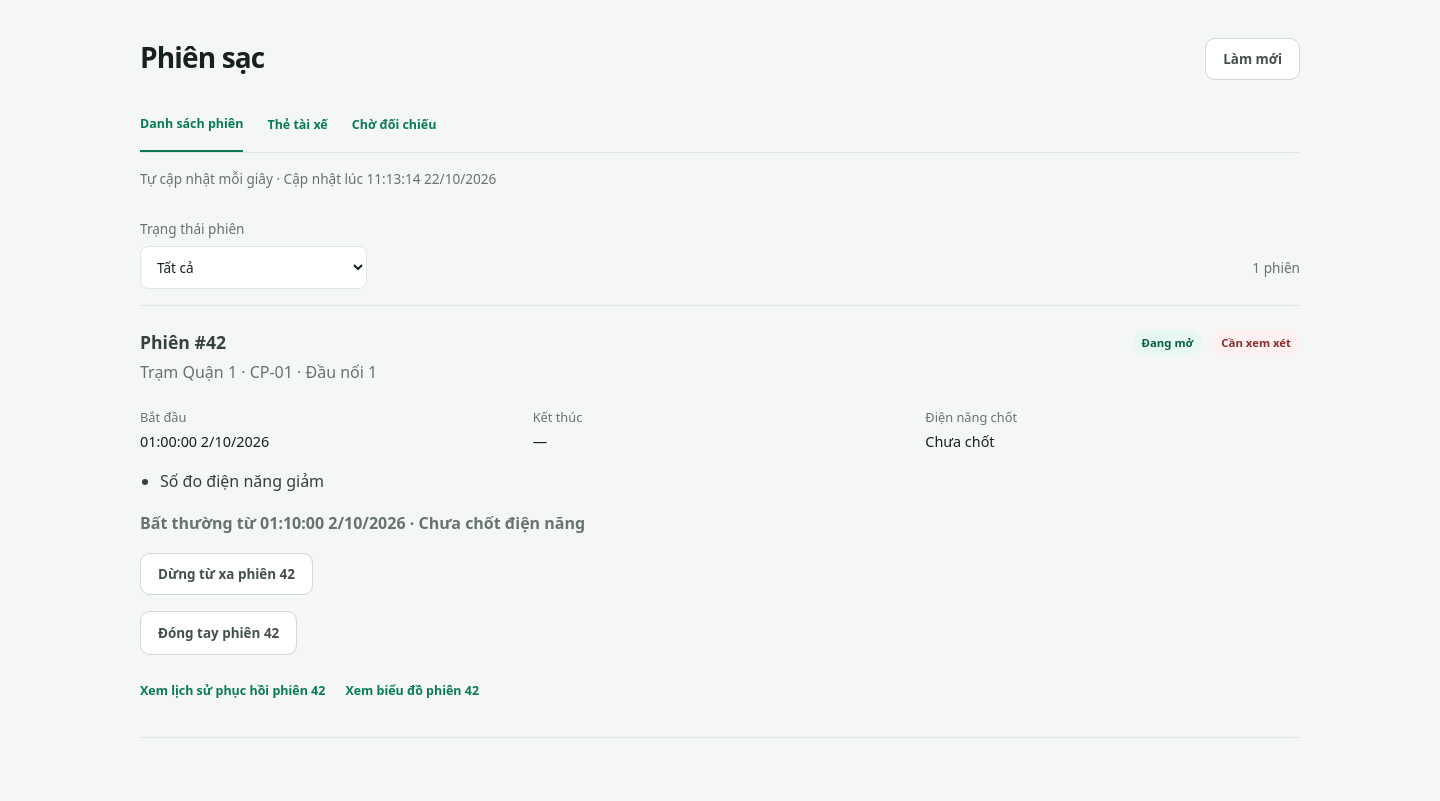
ChargingSessionsPage › filters abnormal sessions, closes using the real API and displays history
The image size is (1440, 801).
Expected: the heading "Phiên #42" is shown, [140, 330, 226, 354]
Step 1. Select "Bất thường — chưa kết thúc" in the dropdown labelled "Trạng thái phiên" → (254, 268), box [140, 246, 367, 289]
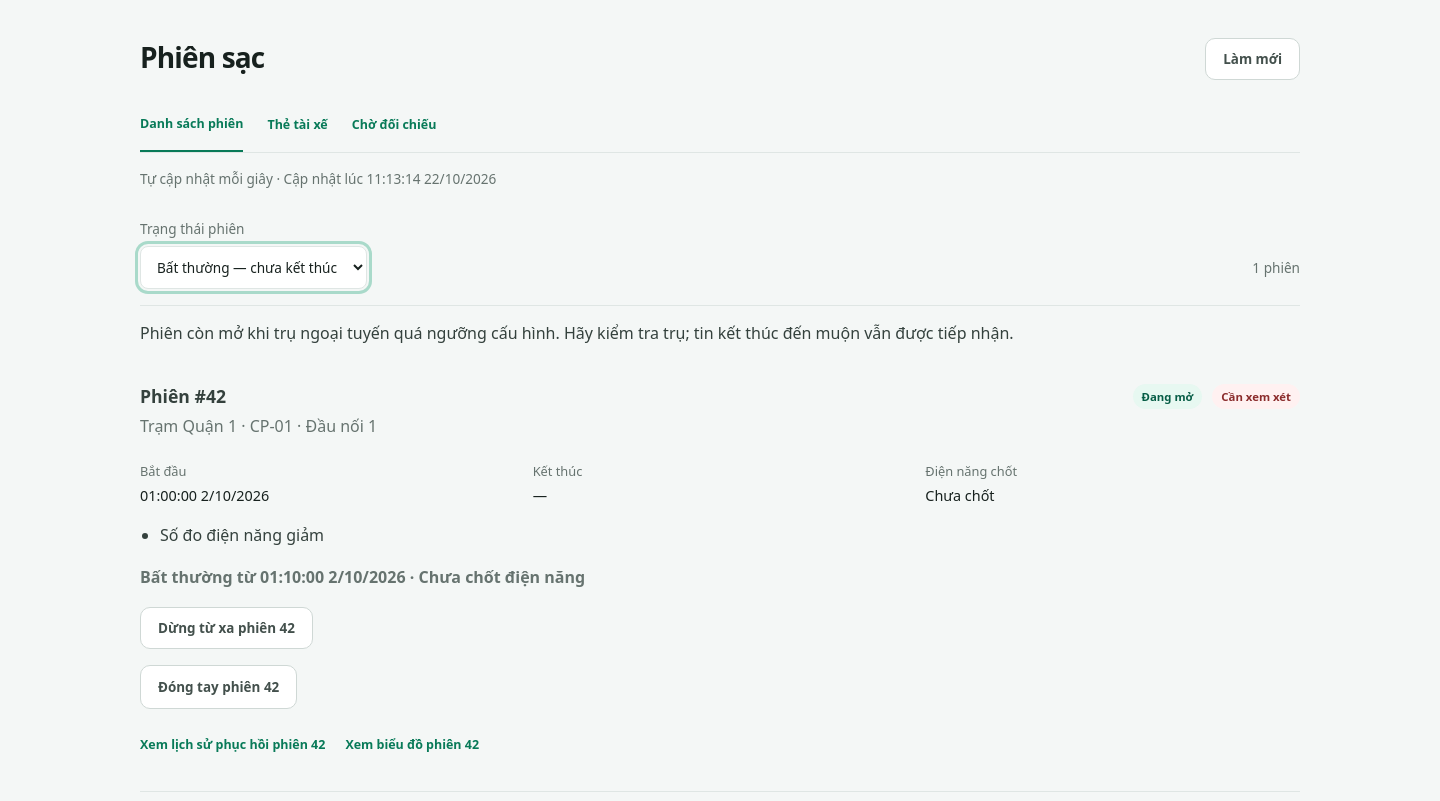
Step 2. Click the button "Đóng tay phiên 42" → click(219, 687), box [140, 665, 297, 709]
(page scrolled)
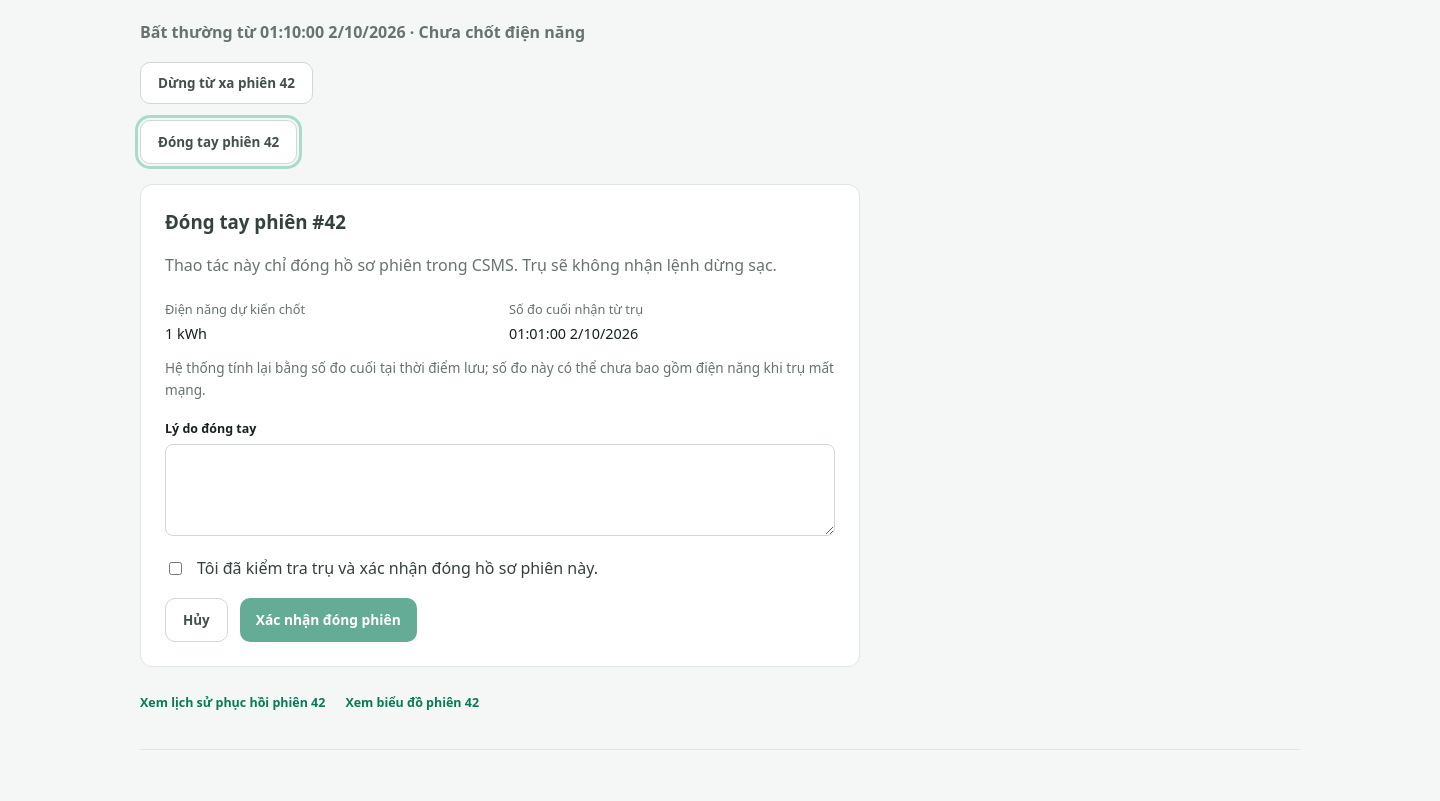
Step 3. Type "Đã kiểm tra" into the text box labelled "Lý do đóng tay" → (500, 490), box [165, 444, 835, 536]
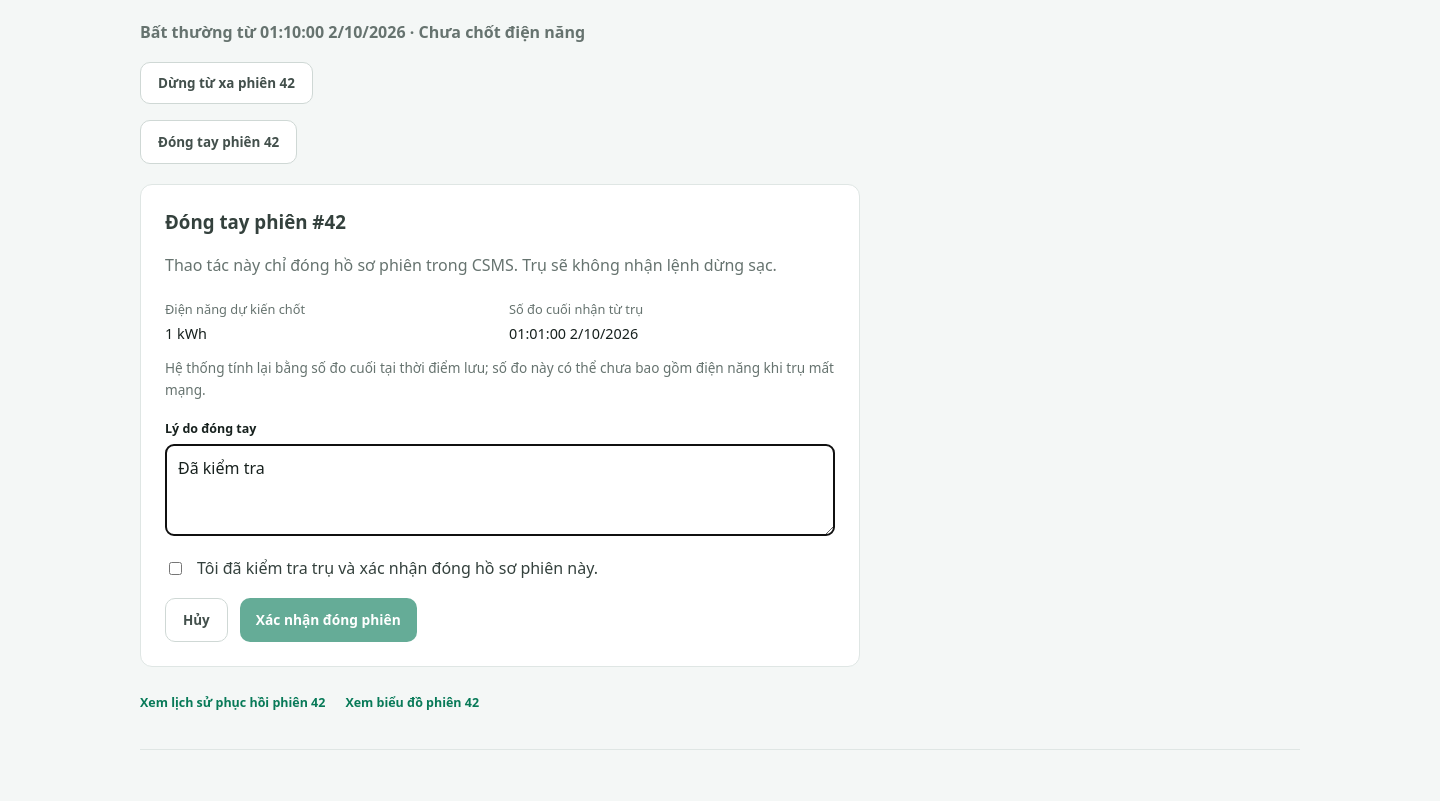
Step 4. Click the checkbox → click(176, 569), box [169, 562, 182, 575]
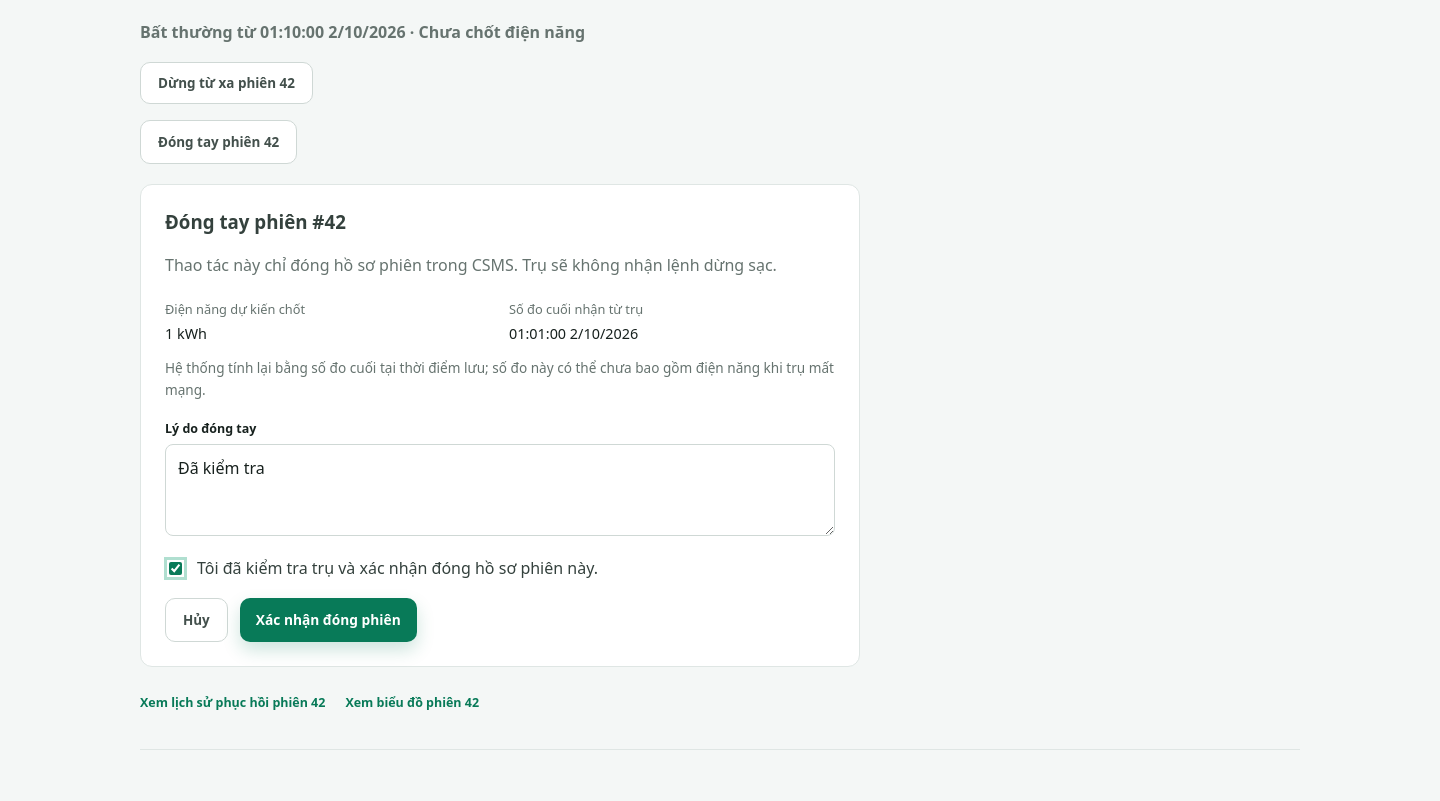
Step 5. Click the button "Xác nhận đóng phiên" → click(328, 620), box [240, 598, 417, 642]
(page scrolled)
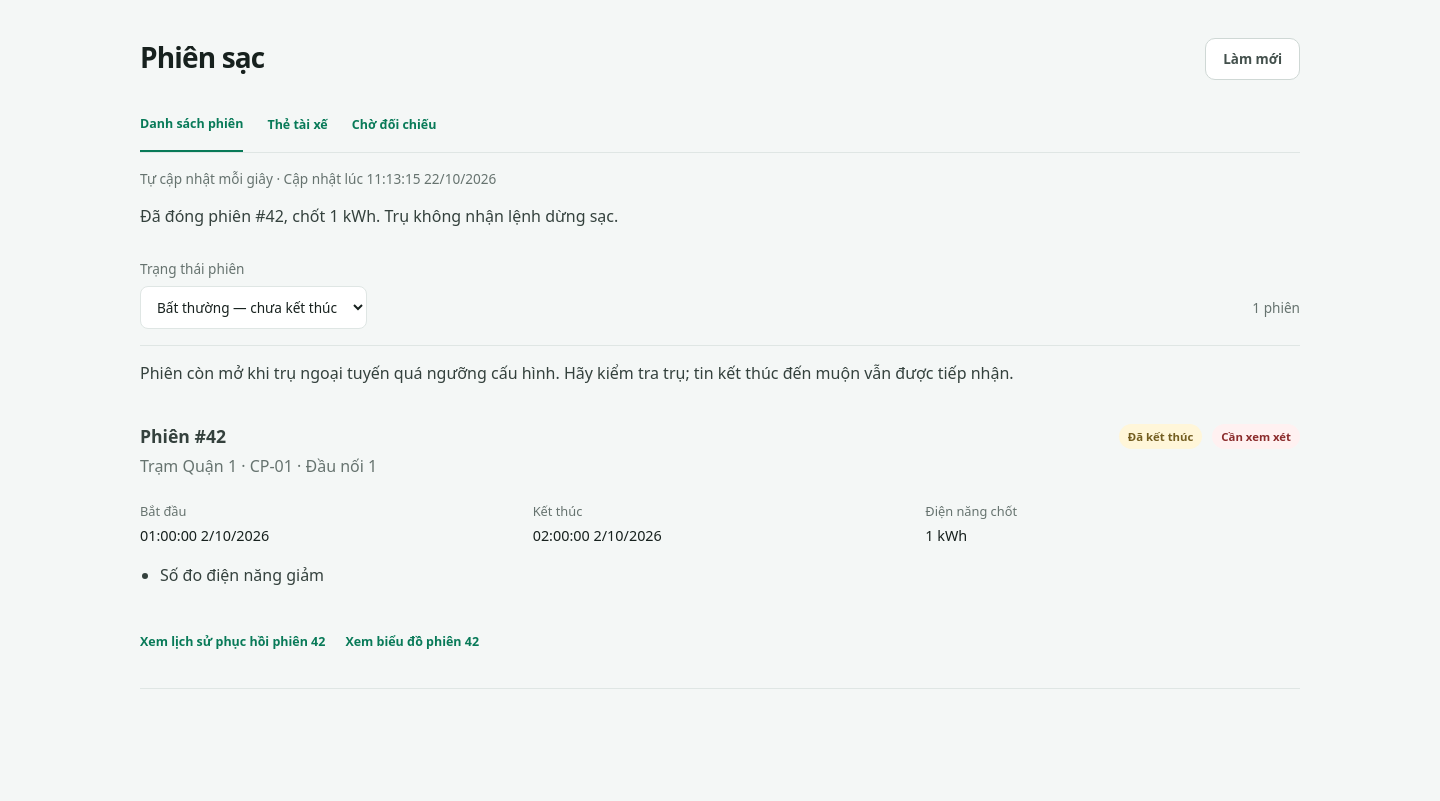
Expected: the message shows "Đã đóng phiên #42, chốt 1 kWh", [140, 205, 618, 227]
Step 6. Click the button "Xem lịch sử phục hồi phiên 42" → click(233, 642), box [140, 620, 325, 664]
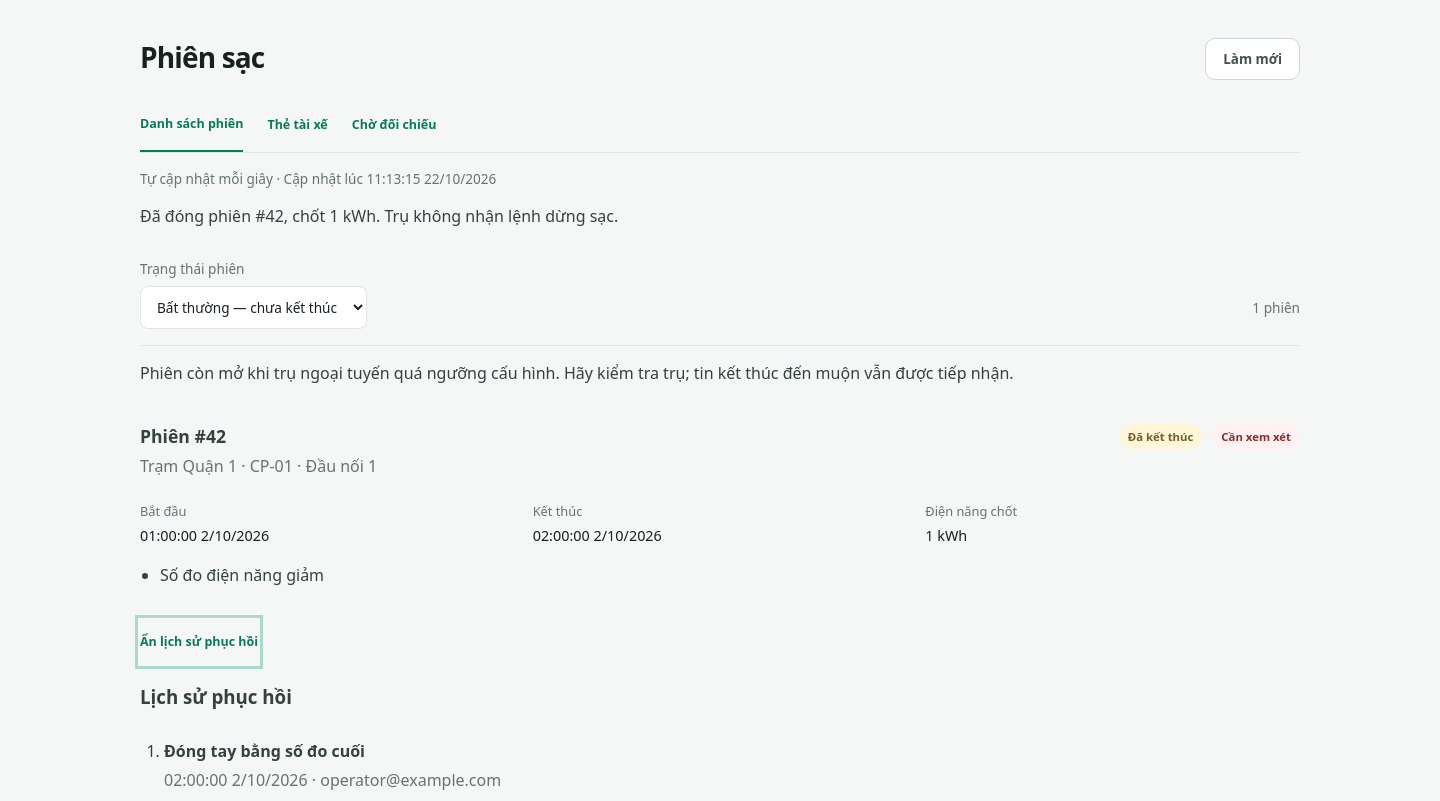
Expected: the text "Đóng tay bằng số đo cuối" is shown, [164, 740, 365, 762]
Expected: the text "02:00:00 2/10/2026 · operator@example.com" is shown, [164, 768, 501, 790]
